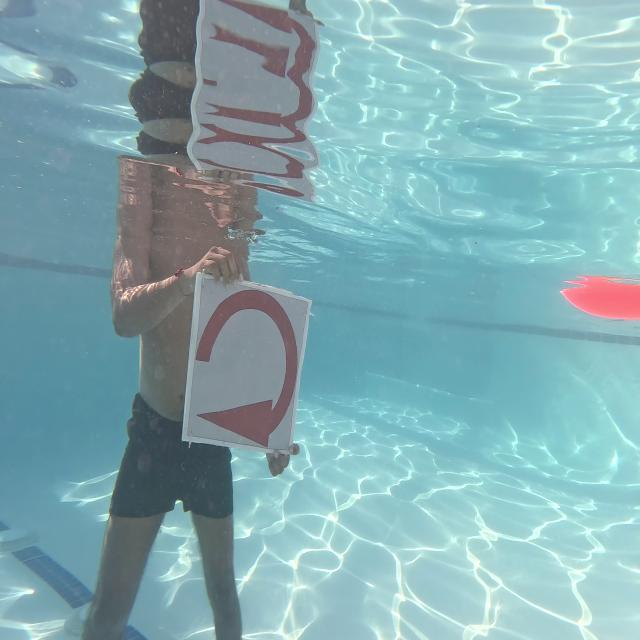red_side: (191, 277, 303, 453)
